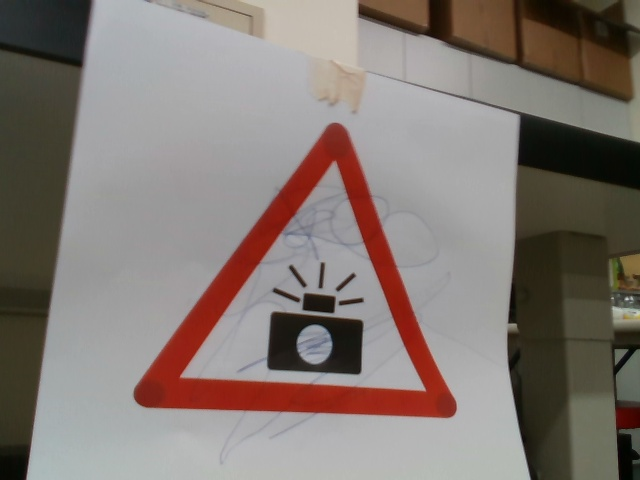camera: (131, 118, 461, 427)
